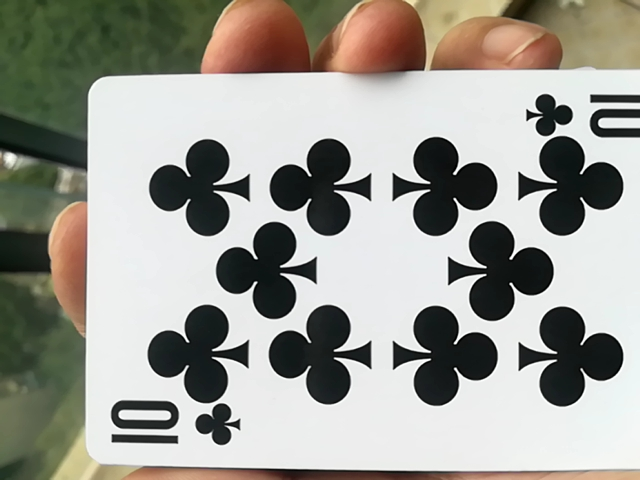mh 10: (76, 80, 635, 473)
